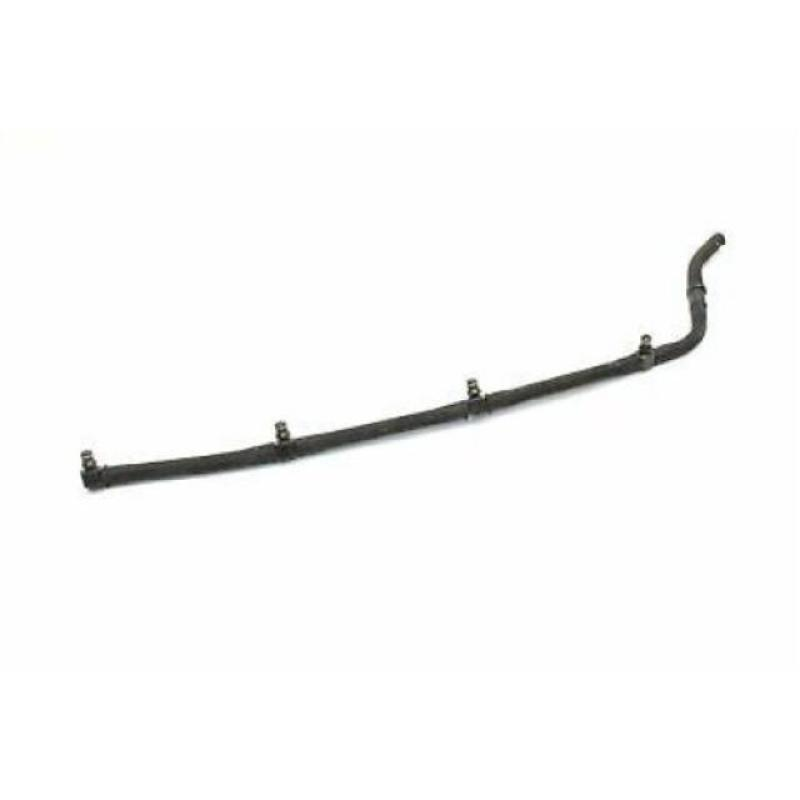Healthy: (88, 203, 748, 548)
